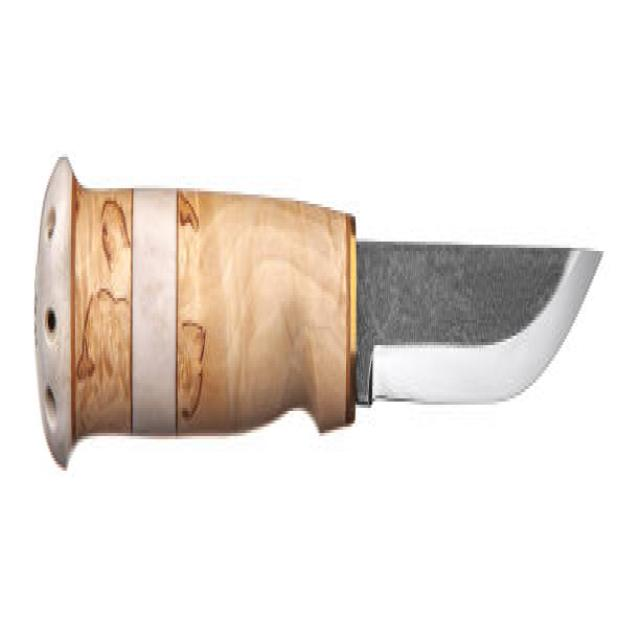knife: (35, 141, 607, 492)
